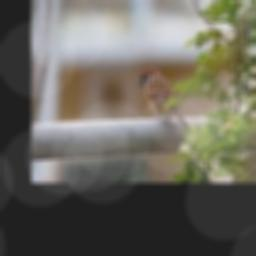Sparrow: (139, 67, 189, 128)
